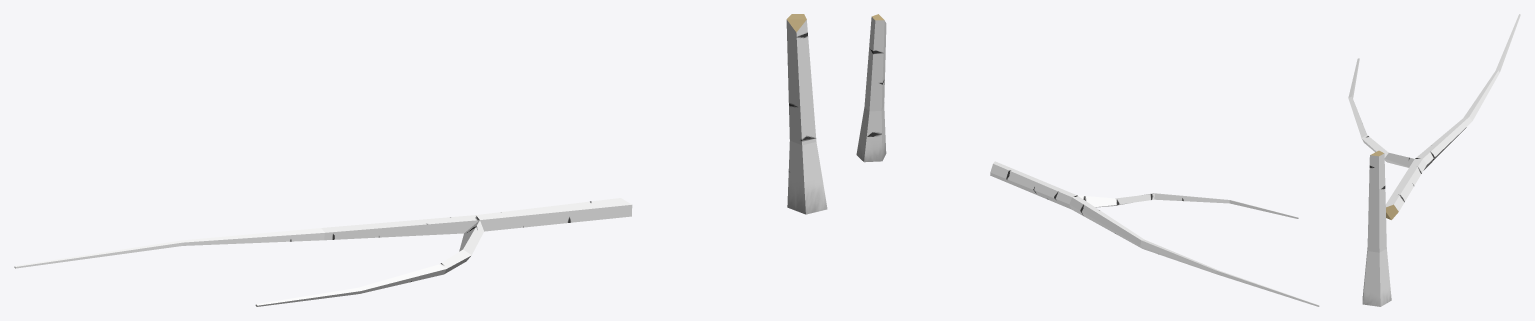
The model's file is Birch_Tree_NoLeaves_crk_m_02_LOD.fbx.
3 views of the same model, side by side, from view 1: azimuth 30°, elevation 25°; view 2: azimuth 150°, elevation 25°; view 3: azimuth 270°, elevation 25° (orthographic). The views are drawn at different scales.
Parts seen in each view (by area): view 1: Birch_Tree_NoLeaves_crk_m_02_LOD0; view 2: Birch_Tree_NoLeaves_crk_m_02_LOD0; view 3: Birch_Tree_NoLeaves_crk_m_02_LOD0.
Boxes of the visible parts, left/top/right/bottom form: Birch_Tree_NoLeaves_crk_m_02_LOD0: left=14, top=14, right=827, bottom=306; Birch_Tree_NoLeaves_crk_m_02_LOD0: left=856, top=14, right=1319, bottom=306; Birch_Tree_NoLeaves_crk_m_02_LOD0: left=1348, top=14, right=1520, bottom=306.
Size of what is drawn, in the model's own units: 920 by 234 by 255.
